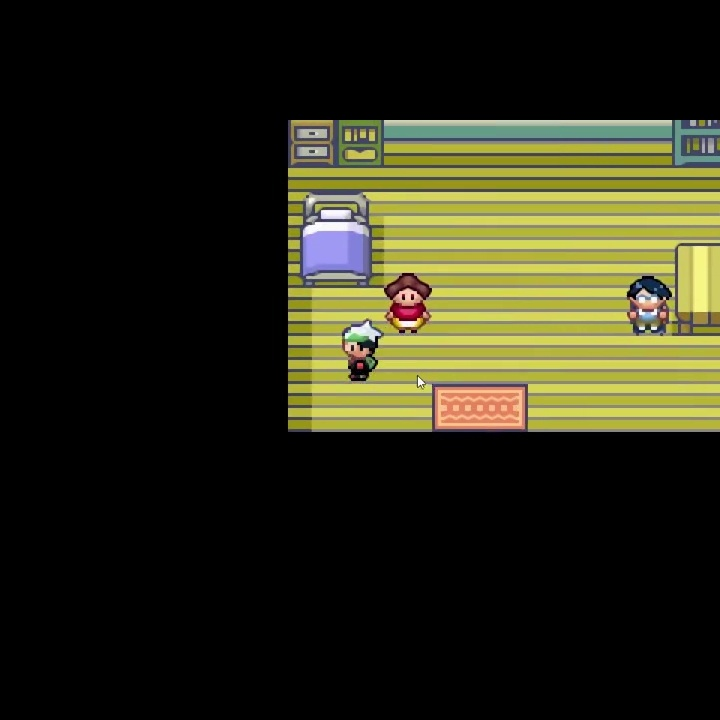agent: (340, 317, 382, 383)
exit: (430, 381, 529, 491)
npc: (384, 273, 434, 336), (624, 274, 673, 338)
